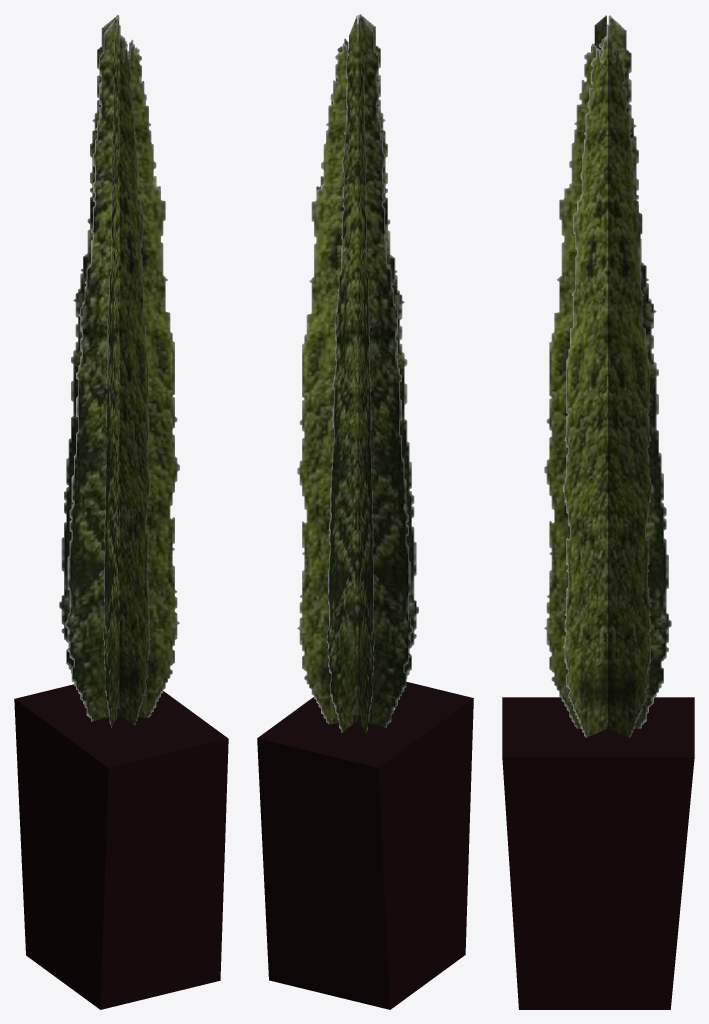
Rendered from plantataiga.fbx.
3 views of the same model, side by side, from view 1: azimuth 30°, elevation 25°; view 2: azimuth 150°, elevation 25°; view 3: azimuth 270°, elevation 25° (orthographic).
Visible parts, largest first — view 1: Cube, abetosemfundo.002, abetosemfundo.001, abetosemfundo, abetosemfundo.003; view 2: Cube, abetosemfundo.003, abetosemfundo.001, abetosemfundo, abetosemfundo.002; view 3: Cube, abetosemfundo.003, abetosemfundo.002, abetosemfundo.
Part boxes in pixels (left/top/right/bottom): Cube: left=14, top=684, right=228, bottom=1009; abetosemfundo.002: left=59, top=15, right=179, bottom=717; abetosemfundo.001: left=65, top=16, right=160, bottom=721; abetosemfundo: left=117, top=15, right=150, bottom=725; abetosemfundo.003: left=103, top=17, right=119, bottom=727; Cube: left=257, top=681, right=473, bottom=1009; abetosemfundo.003: left=297, top=14, right=418, bottom=724; abetosemfundo.001: left=316, top=15, right=412, bottom=727; abetosemfundo: left=326, top=15, right=358, bottom=732; abetosemfundo.002: left=358, top=15, right=374, bottom=733; Cube: left=502, top=697, right=694, bottom=1009; abetosemfundo.003: left=591, top=15, right=652, bottom=737; abetosemfundo.002: left=563, top=15, right=620, bottom=737; abetosemfundo: left=544, top=16, right=671, bottom=728.
Size of the model in its own units: 66.63 by 497 by 89.76.
